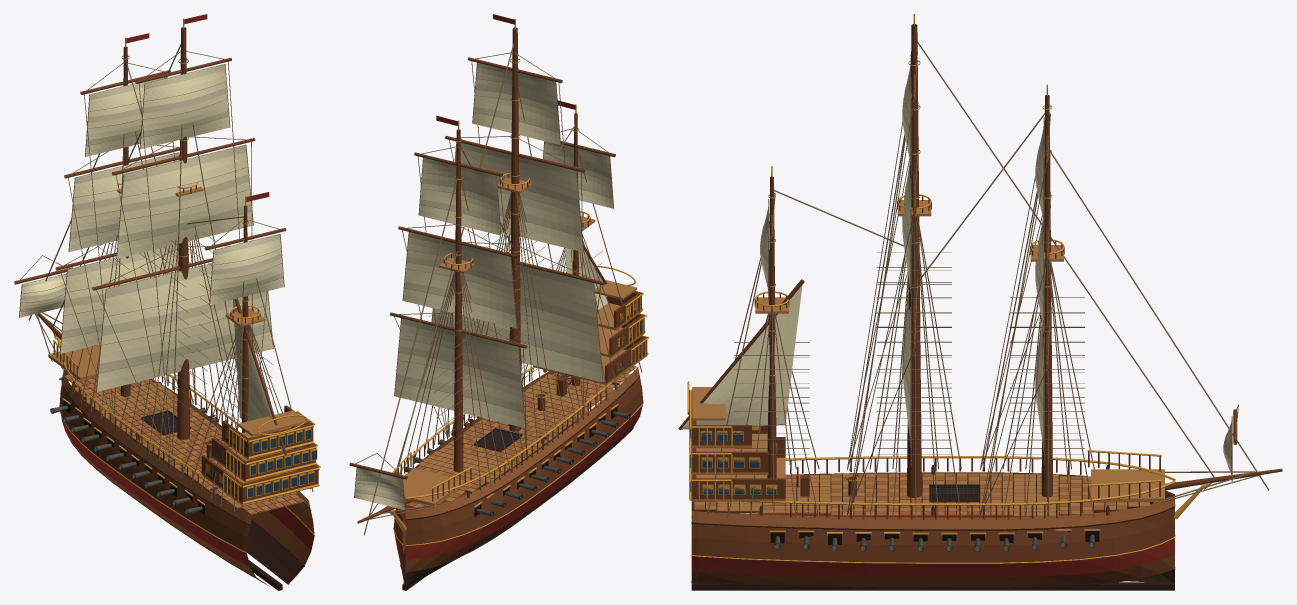
The model's file is galeon_master.obj.
The picture shows the model from 3 angles, left to right: view 1: azimuth 30°, elevation 25°; view 2: azimuth 150°, elevation 25°; view 3: azimuth 270°, elevation 25°; orthographic projection. The views are drawn at different scales.
Visible parts, largest first — view 1: PW_Galeon_36m; view 2: PW_Galeon_36m; view 3: PW_Galeon_36m.
Part boxes in pixels (x1,y1,x2,y2): PW_Galeon_36m: [14, 14, 320, 590]; PW_Galeon_36m: [349, 14, 649, 590]; PW_Galeon_36m: [678, 14, 1282, 590].
Size of the model in its own units: 17.9 by 47.25 by 44.99.
